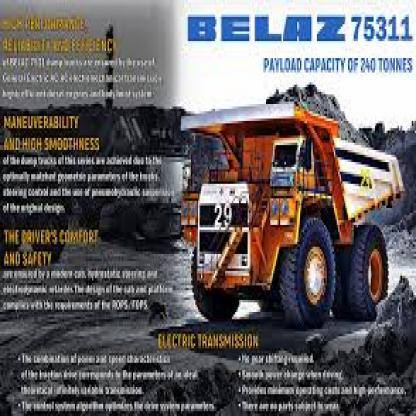dump_truck: (174, 80, 396, 329)
